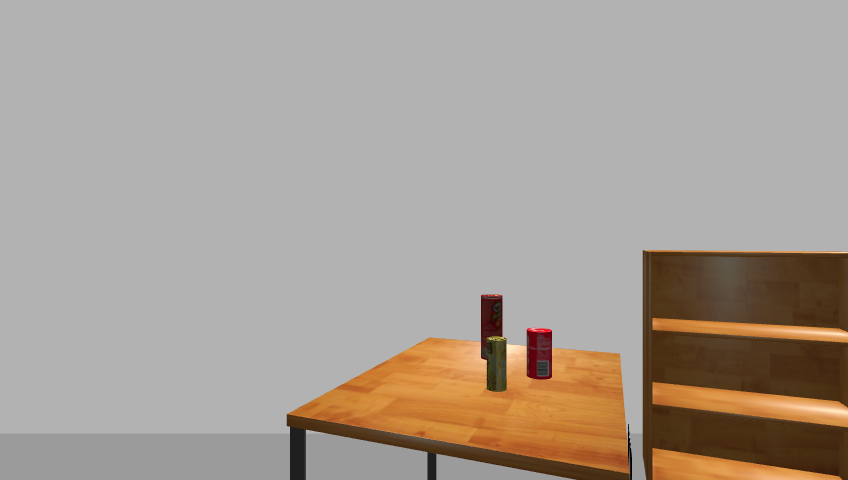biscuits pack: (485, 337, 508, 392)
bookshelf: (635, 249, 848, 479)
coke can: (525, 328, 554, 380)
dinner table: (281, 336, 636, 480)
pringles can: (478, 293, 504, 361)
